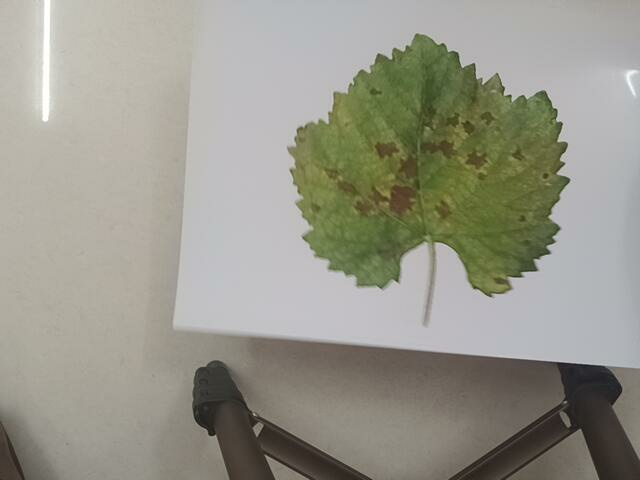Grape_Leaf_Vine_Disease: (285, 40, 594, 300)
